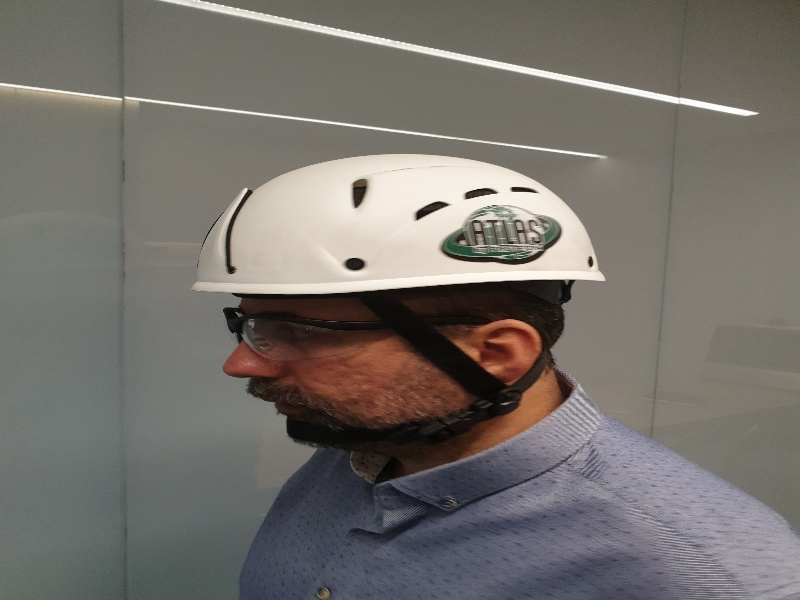Baret: (198, 158, 617, 300)
Gozluk: (221, 303, 401, 363)
